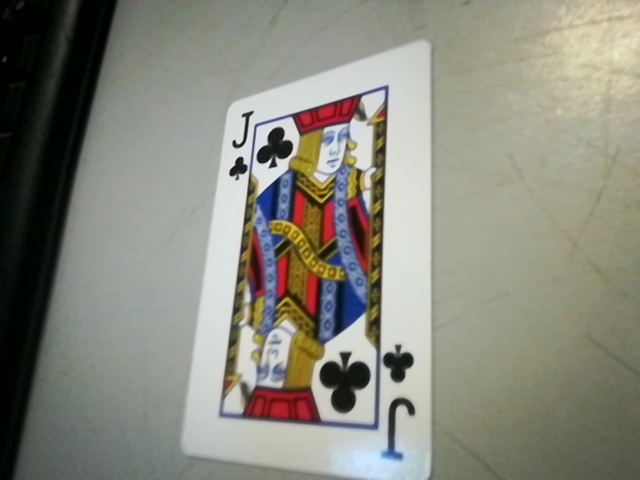mh j: (372, 339, 427, 469)
